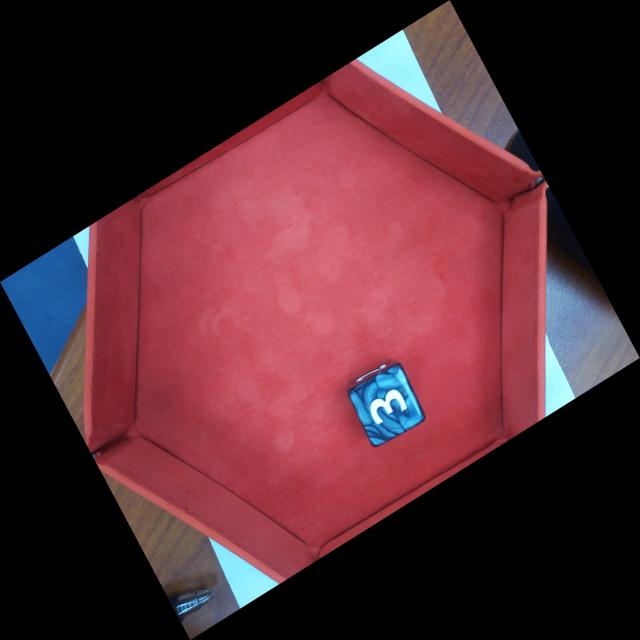dice: (350, 362, 423, 446)
